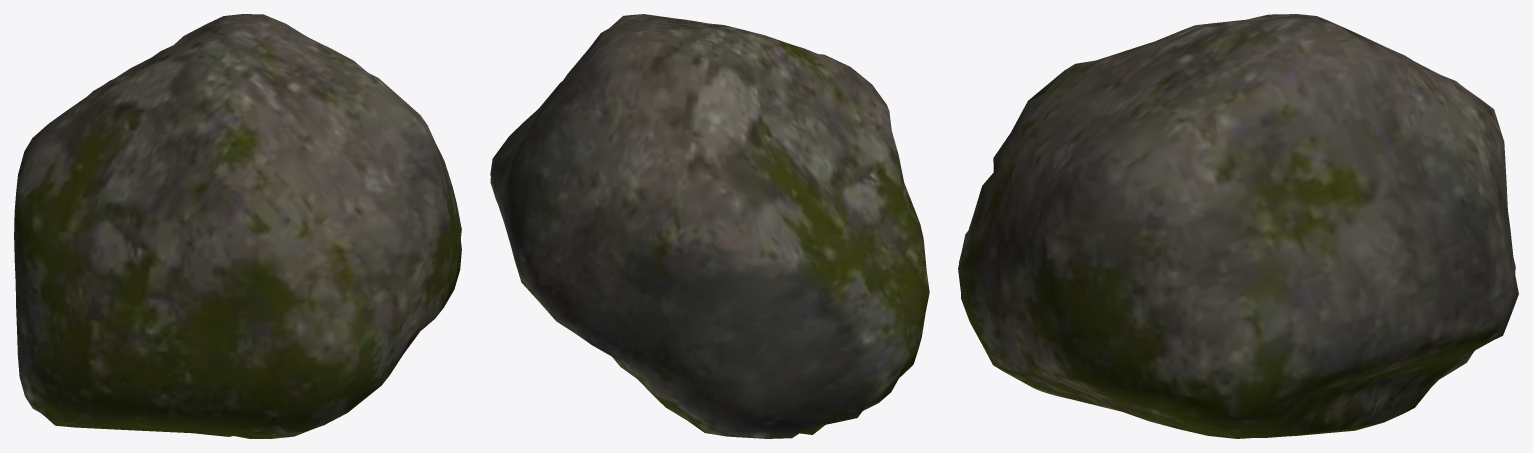
Rendered from rock_moss3.glb.
The picture shows the model from 3 angles, left to right: view 1: azimuth 30°, elevation 25°; view 2: azimuth 150°, elevation 25°; view 3: azimuth 270°, elevation 25°; orthographic projection. The views are drawn at different scales.
Parts seen in each view (by area): view 1: A_Set.004; view 2: A_Set.004; view 3: A_Set.004.
Part boxes in pixels (bbox=[...]): A_Set.004: bbox=[14, 14, 461, 438]; A_Set.004: bbox=[490, 14, 929, 438]; A_Set.004: bbox=[958, 14, 1518, 438].
Size of the model in its own units: 5.74 by 4.71 by 5.45.
Materials: 1 (1 with a texture image).
